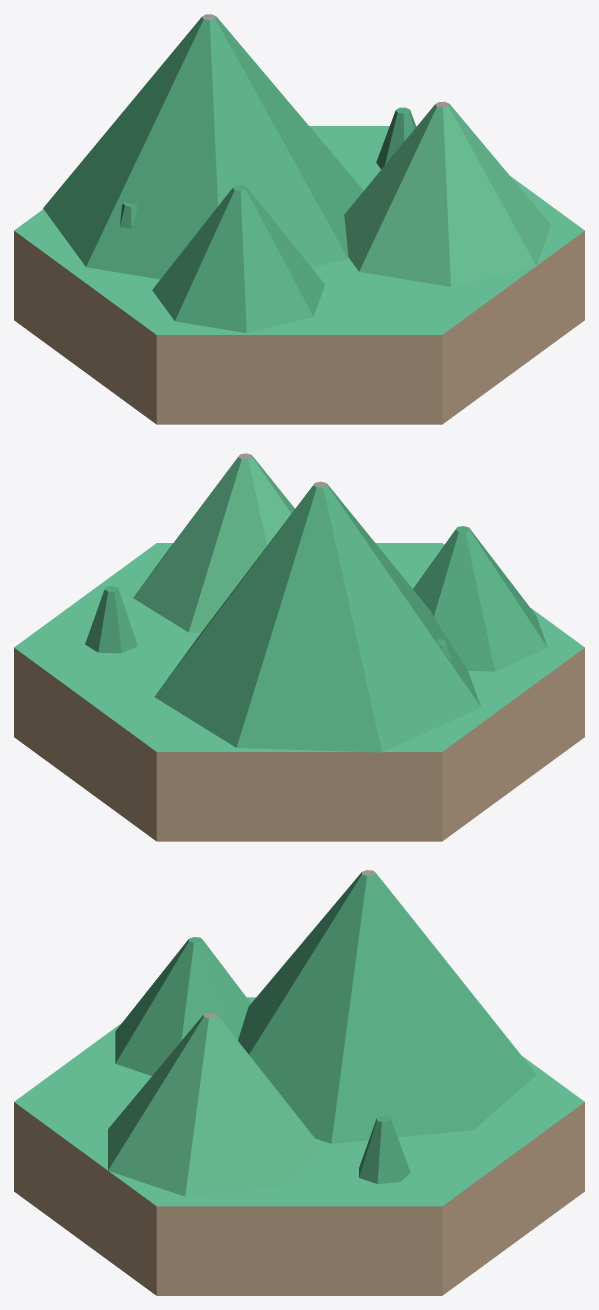
Rendered from mountain-small-3.glb.
3 renders of one model, top to bottom at view 1: azimuth 30°, elevation 25°; view 2: azimuth 150°, elevation 25°; view 3: azimuth 270°, elevation 25°, orthographic.
Visible parts, largest first — view 1: mountain_hex_base, slope_0, slope_1, slope_2, foothill_tree_0; view 2: mountain_hex_base, slope_0, slope_1, slope_2, foothill_tree_0; view 3: mountain_hex_base, slope_0, slope_1, slope_2, foothill_tree_0.
Part boxes in pixels (bbox=[...]): mountain_hex_base: bbox=[14, 126, 584, 424]; slope_0: bbox=[43, 16, 363, 279]; slope_1: bbox=[344, 104, 550, 286]; slope_2: bbox=[152, 185, 324, 333]; foothill_tree_0: bbox=[376, 107, 416, 169]; mountain_hex_base: bbox=[14, 543, 584, 841]; slope_0: bbox=[154, 484, 480, 752]; slope_1: bbox=[133, 455, 294, 632]; slope_2: bbox=[413, 526, 547, 671]; foothill_tree_0: bbox=[85, 586, 137, 653]; mountain_hex_base: bbox=[14, 997, 584, 1295]; slope_0: bbox=[238, 872, 536, 1143]; slope_1: bbox=[108, 1012, 323, 1196]; slope_2: bbox=[115, 937, 250, 1075]; foothill_tree_0: bbox=[359, 1116, 410, 1183].
Size of the model in its own units: 1 by 0.65 by 1.15.
